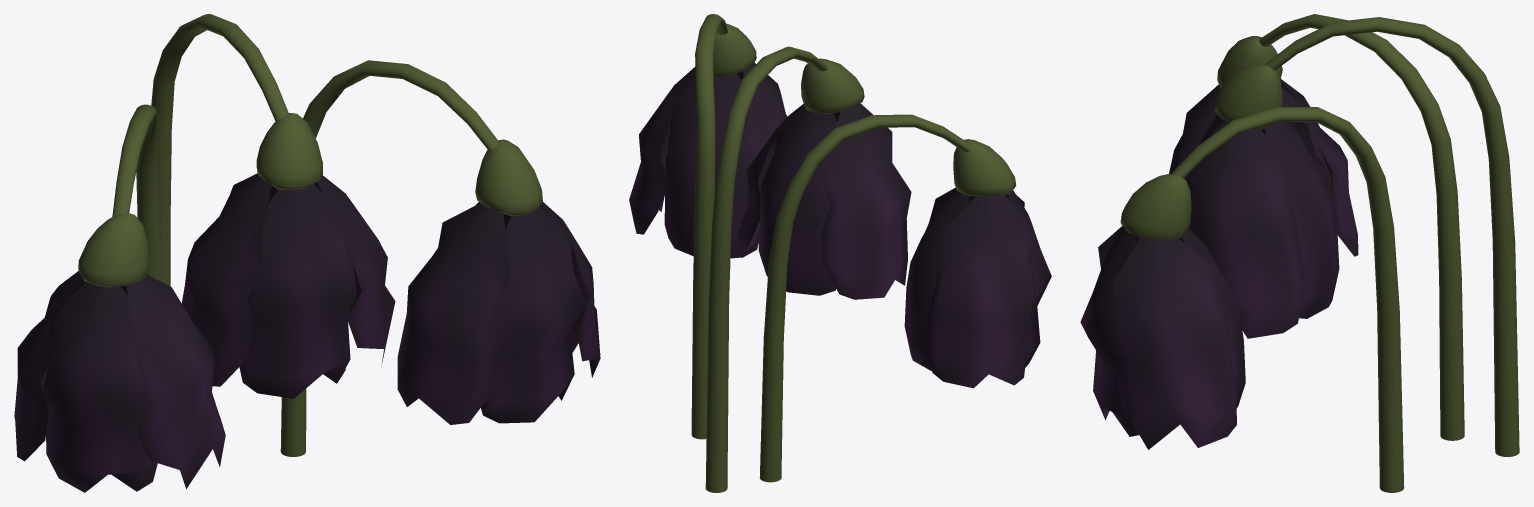
The model's file is Flowers2_Corrupted.fbx.
The picture shows the model from 3 angles, left to right: view 1: azimuth 30°, elevation 25°; view 2: azimuth 150°, elevation 25°; view 3: azimuth 270°, elevation 25°; orthographic projection. The views are drawn at different scales.
Visible parts, largest first — view 1: FLower2_Corrupted; view 2: FLower2_Corrupted; view 3: FLower2_Corrupted.
Part boxes in pixels (left/top/right/bottom): FLower2_Corrupted: left=14, top=14, right=600, bottom=492; FLower2_Corrupted: left=629, top=14, right=1051, bottom=492; FLower2_Corrupted: left=1080, top=14, right=1519, bottom=492.
Size of the model in its own units: 5.62 by 4.69 by 4.28.
2 materials, 1 textured.
